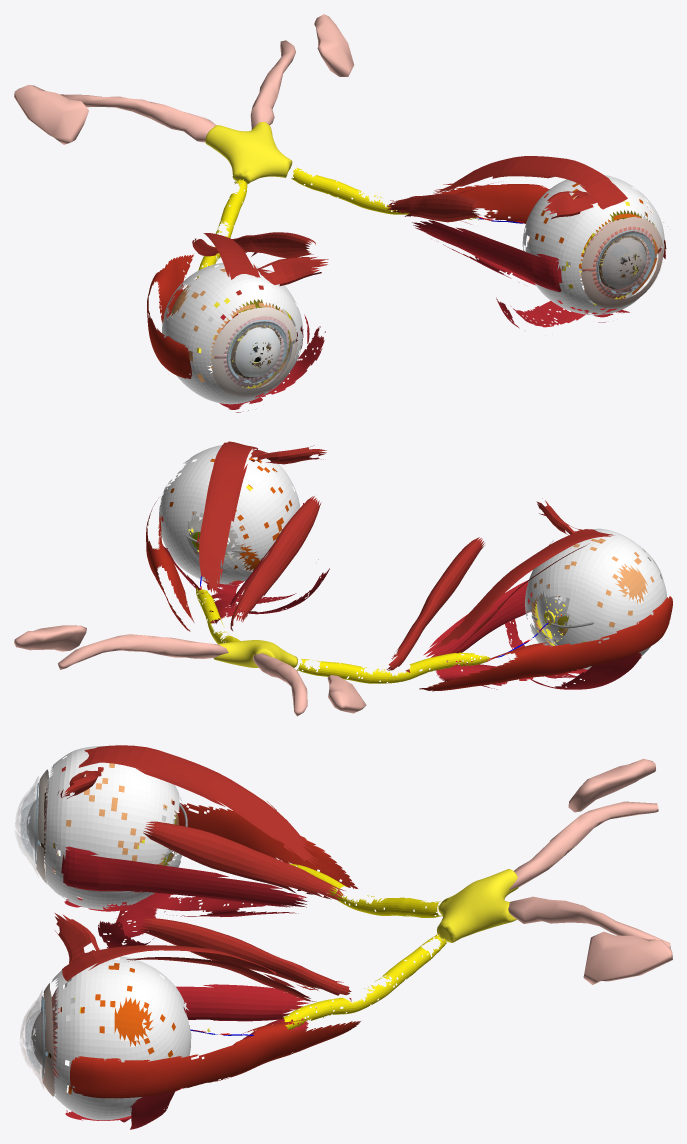
The model's file is eye.glb.
3 renders of one model, top to bottom at view 1: azimuth 30°, elevation 25°; view 2: azimuth 150°, elevation 25°; view 3: azimuth 270°, elevation 25°, orthographic. The views are drawn at different scales.
Parts seen in each view (by area): view 1: VH_F_sclera_R, VH_F_sclera_L, VH_F_superior_rectus_extraocular_muscle_L, VH_F_medial_rectus_extraocular_muscle_L, VH_F_optic_chiasm, VH_F_superior_oblique_extraocular_muscle_L, VH_F_superior_oblique_extraocular_muscle_R, VH_F_lateral_rectus_extraocular_muscle_R, Allen_optic_radiation_L, VH_F_lateral_rectus_extraocular_muscle_L, Allen_optic_tract_L, VH_F_bulbar_conjunctiva_R (+22 smaller); view 2: VH_F_sclera_R, VH_F_sclera_L, VH_F_lateral_rectus_extraocular_muscle_R, VH_F_superior_rectus_extraocular_muscle_L, VH_F_superior_oblique_extraocular_muscle_L, VH_F_superior_oblique_extraocular_muscle_R, VH_F_superior_rectus_extraocular_muscle_R, Allen_optic_tract_R, VH_F_right_optic_nerve, VH_F_medial_rectus_extraocular_muscle_R, VH_F_inferior_oblique_extraocular_muscle_R, Allen_optic_radiation_R (+12 smaller); view 3: VH_F_sclera_L, VH_F_sclera_R, VH_F_lateral_rectus_extraocular_muscle_L, VH_F_medial_rectus_extraocular_muscle_R, VH_F_superior_rectus_extraocular_muscle_R, VH_F_superior_oblique_extraocular_muscle_R, VH_F_superior_oblique_extraocular_muscle_L, VH_F_medial_rectus_extraocular_muscle_L, VH_F_lateral_rectus_extraocular_muscle_R, VH_F_optic_chiasm, Allen_optic_radiation_R, Allen_optic_tract_L (+16 smaller).
Boxes of the visible parts, x1=… form: VH_F_sclera_R: x1=162, y1=263, x2=303, y2=404; VH_F_sclera_L: x1=522, y1=175, x2=664, y2=315; VH_F_superior_rectus_extraocular_muscle_L: x1=433, y1=156, x2=627, y2=209; VH_F_medial_rectus_extraocular_muscle_L: x1=412, y1=220, x2=562, y2=292; VH_F_optic_chiasm: x1=205, y1=122, x2=292, y2=184; VH_F_superior_oblique_extraocular_muscle_L: x1=386, y1=190, x2=596, y2=222; VH_F_superior_oblique_extraocular_muscle_R: x1=229, y1=232, x2=328, y2=285; VH_F_lateral_rectus_extraocular_muscle_R: x1=147, y1=254, x2=193, y2=378; Allen_optic_radiation_L: x1=14, y1=85, x2=88, y2=144; VH_F_lateral_rectus_extraocular_muscle_L: x1=436, y1=184, x2=666, y2=258; Allen_optic_tract_L: x1=60, y1=94, x2=216, y2=142; VH_F_bulbar_conjunctiva_R: x1=209, y1=307, x2=297, y2=396; VH_F_sclera_R: x1=525, y1=528, x2=667, y2=669; VH_F_sclera_L: x1=159, y1=445, x2=300, y2=585; VH_F_lateral_rectus_extraocular_muscle_R: x1=419, y1=596, x2=672, y2=691; VH_F_superior_rectus_extraocular_muscle_L: x1=197, y1=441, x2=257, y2=623; VH_F_superior_oblique_extraocular_muscle_L: x1=230, y1=445, x2=326, y2=630; VH_F_superior_oblique_extraocular_muscle_R: x1=386, y1=498, x2=582, y2=670; VH_F_superior_rectus_extraocular_muscle_R: x1=405, y1=529, x2=613, y2=672; Allen_optic_tract_R: x1=58, y1=634, x2=228, y2=669; VH_F_right_optic_nerve: x1=296, y1=630, x2=538, y2=683; VH_F_medial_rectus_extraocular_muscle_R: x1=423, y1=580, x2=532, y2=661; VH_F_inferior_oblique_extraocular_muscle_R: x1=505, y1=619, x2=641, y2=689; Allen_optic_radiation_R: x1=14, y1=625, x2=86, y2=651; VH_F_sclera_L: x1=51, y1=956, x2=191, y2=1120; VH_F_sclera_R: x1=43, y1=746, x2=184, y2=909; VH_F_lateral_rectus_extraocular_muscle_L: x1=70, y1=1017, x2=360, y2=1098; VH_F_medial_rectus_extraocular_muscle_R: x1=61, y1=846, x2=307, y2=907; VH_F_superior_rectus_extraocular_muscle_R: x1=61, y1=745, x2=353, y2=888; VH_F_superior_oblique_extraocular_muscle_R: x1=57, y1=767, x2=345, y2=900; VH_F_superior_oblique_extraocular_muscle_L: x1=55, y1=913, x2=351, y2=995; VH_F_medial_rectus_extraocular_muscle_L: x1=176, y1=984, x2=309, y2=1021; VH_F_lateral_rectus_extraocular_muscle_R: x1=172, y1=801, x2=357, y2=888; VH_F_optic_chiasm: x1=437, y1=869, x2=518, y2=942; Allen_optic_radiation_R: x1=583, y1=931, x2=672, y2=984; Allen_optic_tract_L: x1=509, y1=801, x2=658, y2=889.
Size of the model in its own units: 0.0994 by 0.03 by 0.0981.
